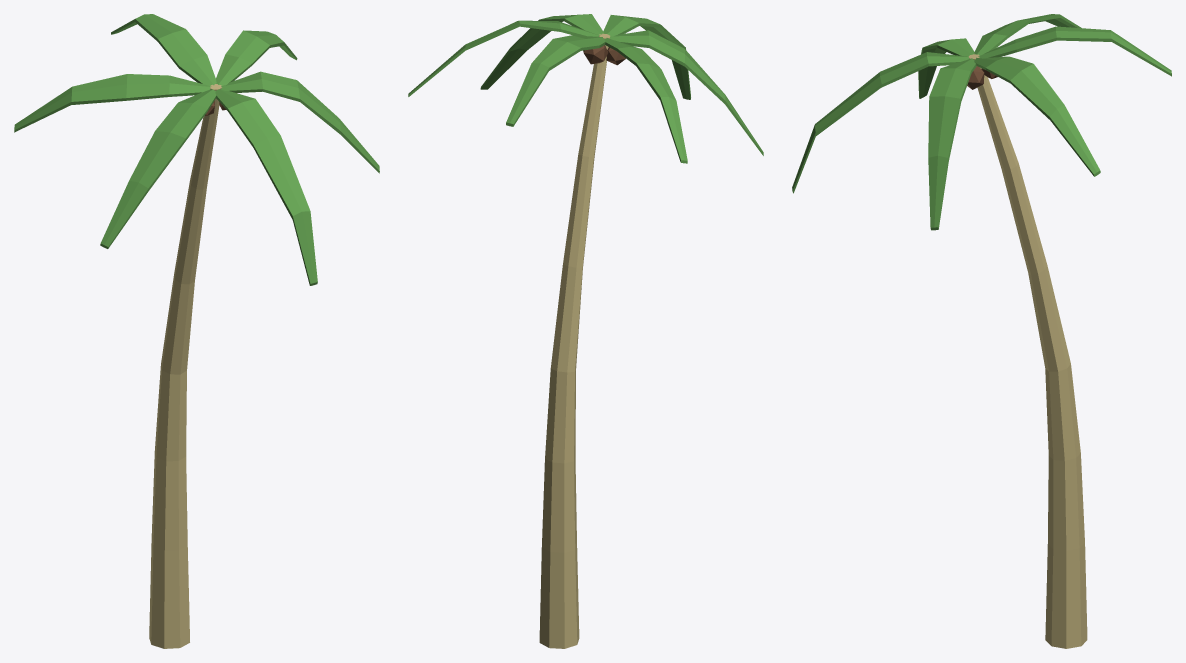
The model's file is Palm Tree003.fbx.
3 views of the same model, side by side, from view 1: azimuth 30°, elevation 25°; view 2: azimuth 150°, elevation 25°; view 3: azimuth 270°, elevation 25° (orthographic). The views are drawn at different scales.
Parts seen in each view (by area): view 1: Icosphere.002; view 2: Icosphere.002; view 3: Icosphere.002.
Part boxes in pixels (box(x1,y1,x2,y2)): Icosphere.002: box(14, 14, 379, 648); Icosphere.002: box(408, 14, 763, 648); Icosphere.002: box(792, 14, 1171, 648).
Size of the model in its own units: 1058 by 2142 by 1213.
